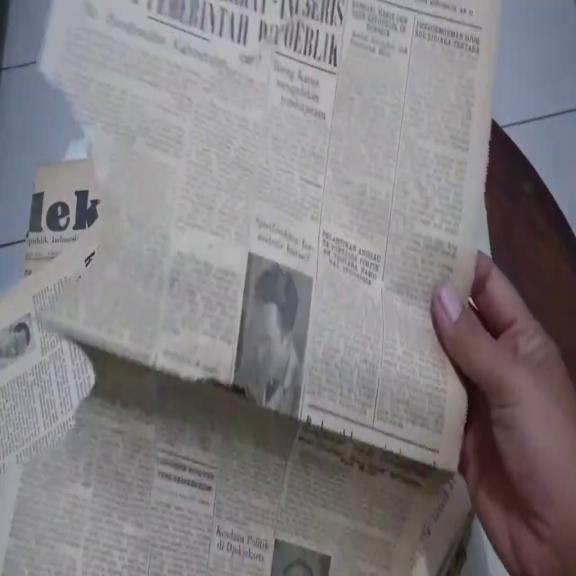Kertas: (38, 0, 429, 354)
